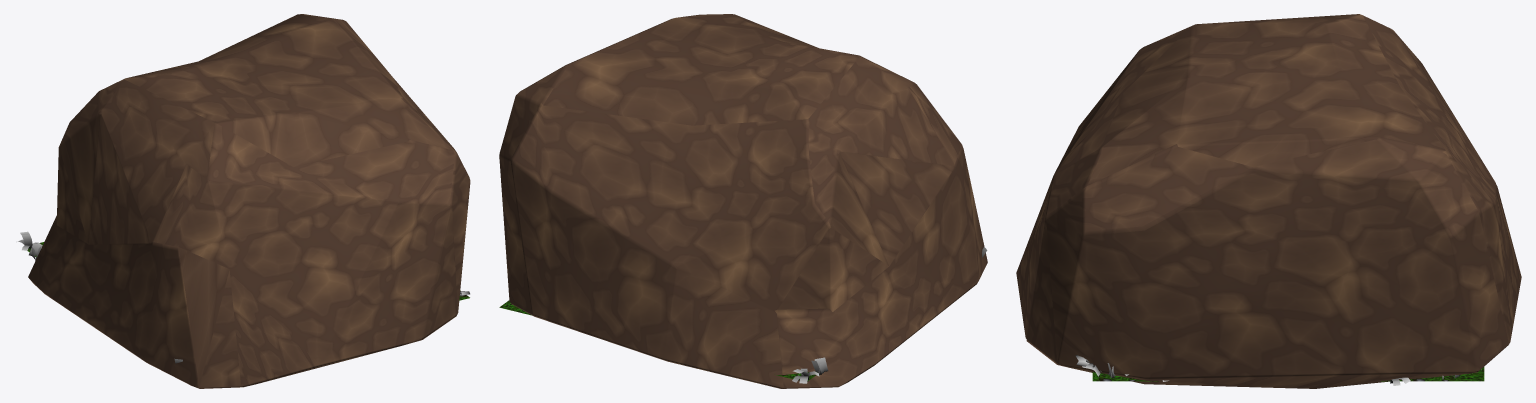
Rendered from SmallRock.fbx.
3 views of the same model, side by side, from view 1: azimuth 30°, elevation 25°; view 2: azimuth 150°, elevation 25°; view 3: azimuth 270°, elevation 25° (orthographic). The views are drawn at different scales.
Parts seen in each view (by area): view 1: SmallRock, SmallRockGrass; view 2: SmallRock, SmallRockGrass; view 3: SmallRock, SmallRockGrass.
Part boxes in pixels (x1,y1,x2,y2): SmallRock: [28, 14, 470, 388]; SmallRockGrass: [18, 231, 469, 363]; SmallRock: [499, 14, 987, 388]; SmallRockGrass: [499, 247, 987, 383]; SmallRock: [1016, 14, 1521, 388]; SmallRockGrass: [1075, 355, 1484, 385].
Size of the model in its own units: 5.71 by 3.68 by 6.45.
